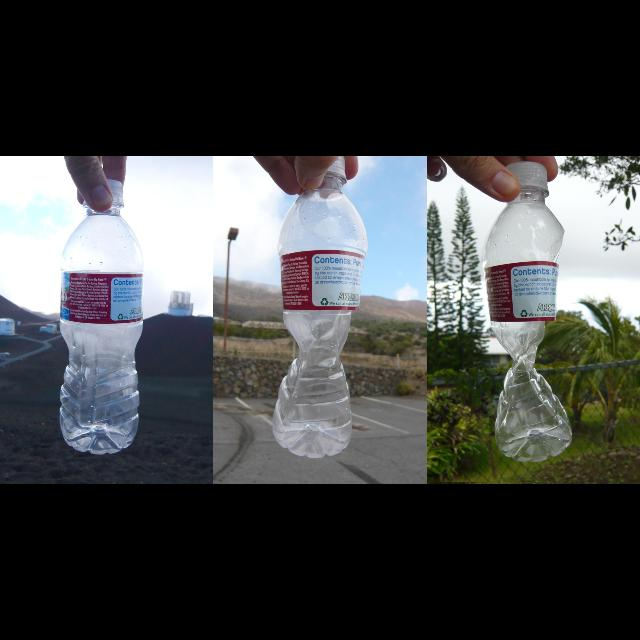garrafa plástica: (272, 177, 371, 459), (483, 188, 572, 462), (59, 203, 143, 453)
tampa plástica: (502, 162, 548, 196), (82, 179, 125, 209), (324, 157, 348, 186)
